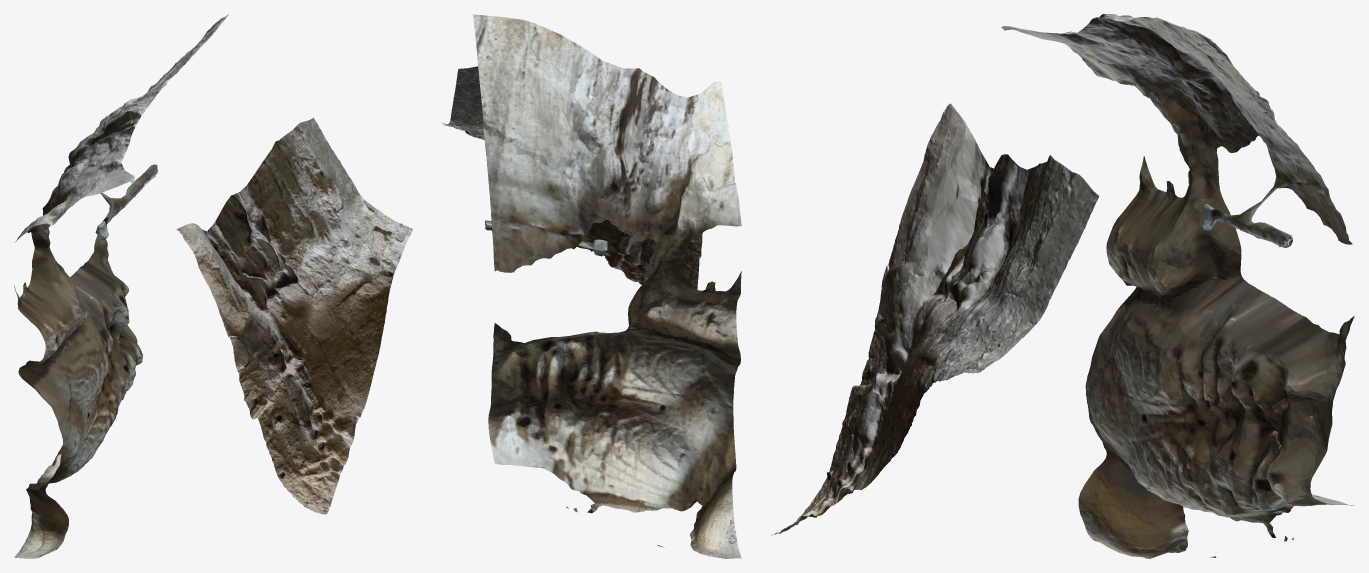
The model's file is tile_4_6.obj.
3 views of the same model, side by side, from view 1: azimuth 30°, elevation 25°; view 2: azimuth 150°, elevation 25°; view 3: azimuth 270°, elevation 25° (orthographic). The views are drawn at different scales.
Parts seen in each view (by area): view 1: texture_0; view 2: texture_0; view 3: texture_0.
Part boxes in pixels (x1,y1,x2,y2): texture_0: [14, 14, 412, 558]; texture_0: [441, 14, 741, 558]; texture_0: [771, 14, 1354, 558].
Bounding box in the file's own units: 0.4195 × 0.5545 × 0.436.
Materials: 1 (1 with a texture image).
